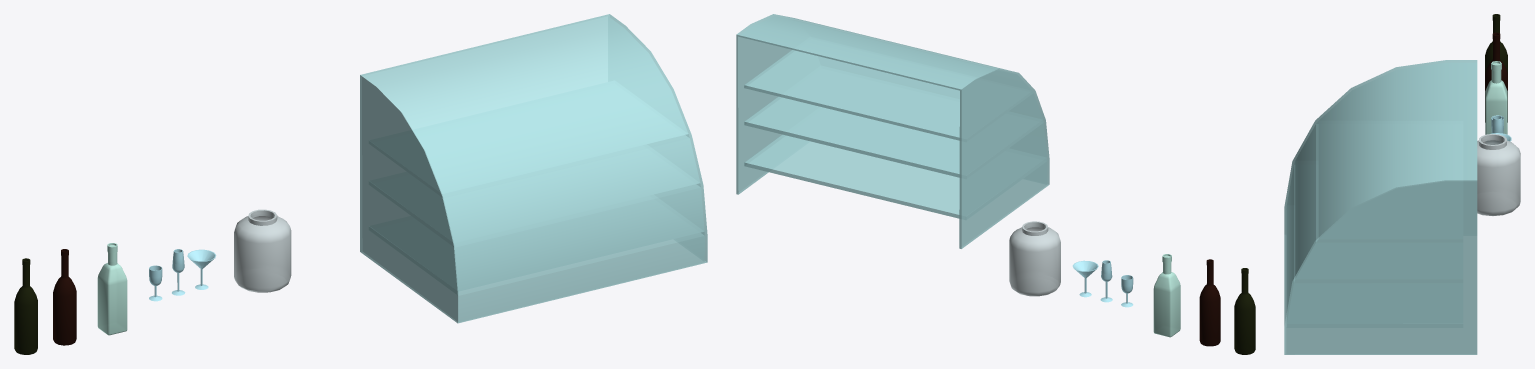
File: Glass_props (2).fbx
The picture shows the model from 3 angles, left to right: view 1: azimuth 30°, elevation 25°; view 2: azimuth 150°, elevation 25°; view 3: azimuth 270°, elevation 25°; orthographic projection. The views are drawn at different scales.
Parts seen in each view (by area): view 1: Showcase, Jar, Bottle, Bottle.002, Bottle.001; view 2: Showcase, Jar, Bottle, Bottle.002, Bottle.001, Wineglass; view 3: Showcase, Jar, Bottle, Bottle.001, Bottle.002, Wineglass.001.
Boxes of the visible parts, bbox=[...] form: Showcase: bbox=[360, 14, 707, 323]; Jar: bbox=[234, 209, 291, 292]; Bottle: bbox=[97, 243, 127, 335]; Bottle.002: bbox=[14, 258, 37, 354]; Bottle.001: bbox=[53, 249, 76, 345]; Showcase: bbox=[736, 14, 1049, 248]; Jar: bbox=[1009, 221, 1060, 296]; Bottle: bbox=[1153, 254, 1180, 337]; Bottle.002: bbox=[1234, 268, 1255, 354]; Bottle.001: bbox=[1199, 259, 1220, 346]; Wineglass: bbox=[1072, 260, 1098, 297]; Showcase: bbox=[1284, 60, 1477, 354]; Jar: bbox=[1477, 134, 1520, 215]; Bottle: bbox=[1485, 61, 1507, 134]; Bottle.001: bbox=[1485, 32, 1507, 122]; Bottle.002: bbox=[1485, 14, 1507, 73]; Wineglass.001: bbox=[1491, 115, 1503, 133].
Size of the model in its own units: 690 by 1945 by 650.
